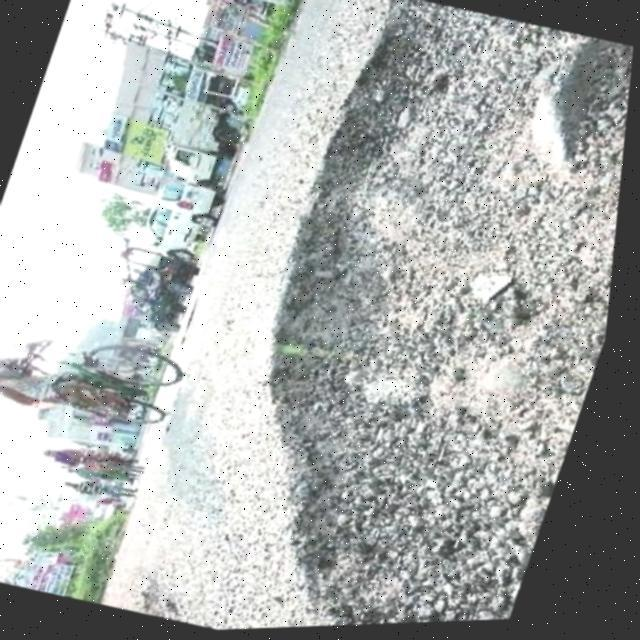pothole: (170, 0, 640, 634)
